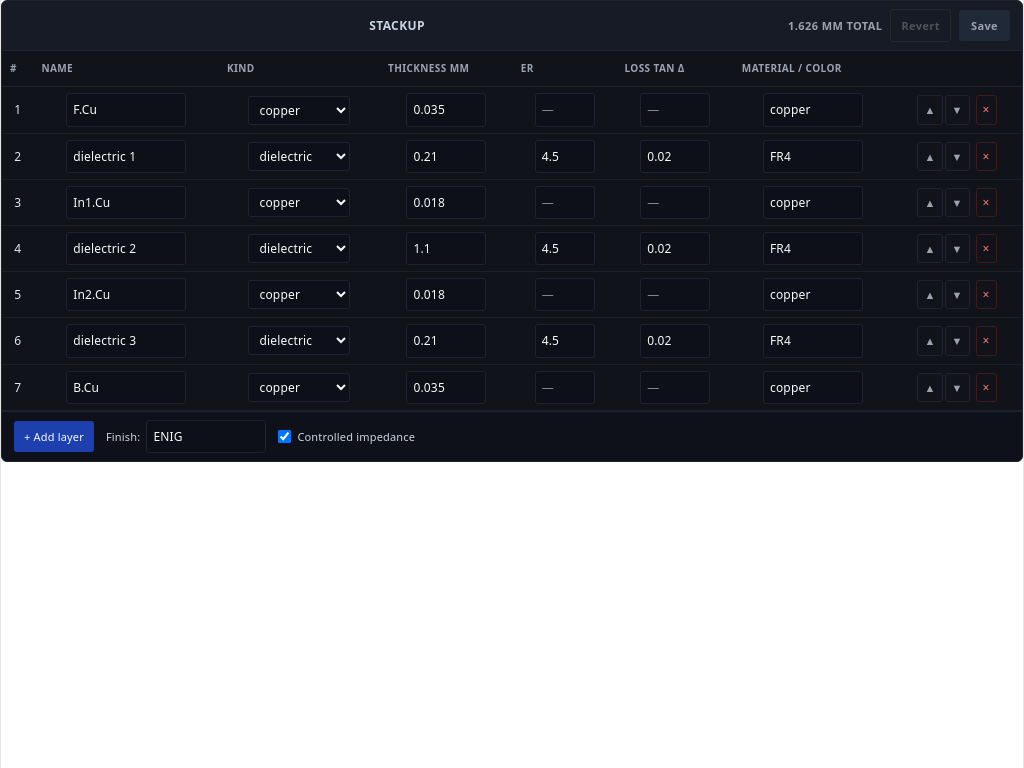
Test: StackupEditor (M3-T-01) › Add inserts a new dielectric row at the bottom and marks dirty
This screenshot has width=1024, height=768.
Click the button with test id "stackup-add" at (54, 436), box [14,421,94,452]
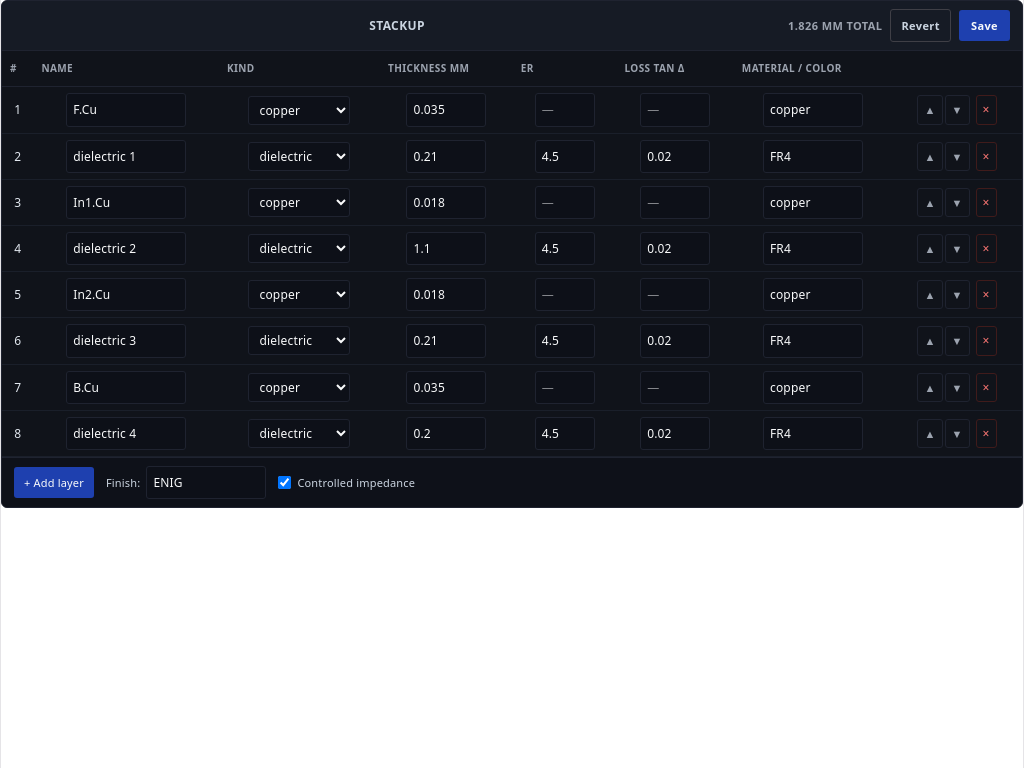
Now the number of rows with test id "stackup-row" is 8
